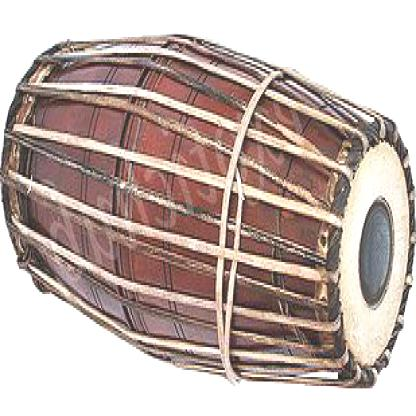Mridangam: (3, 20, 415, 404)
